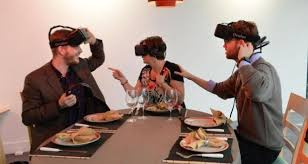oculus: (214, 22, 261, 47), (48, 29, 87, 50), (134, 42, 166, 59)
